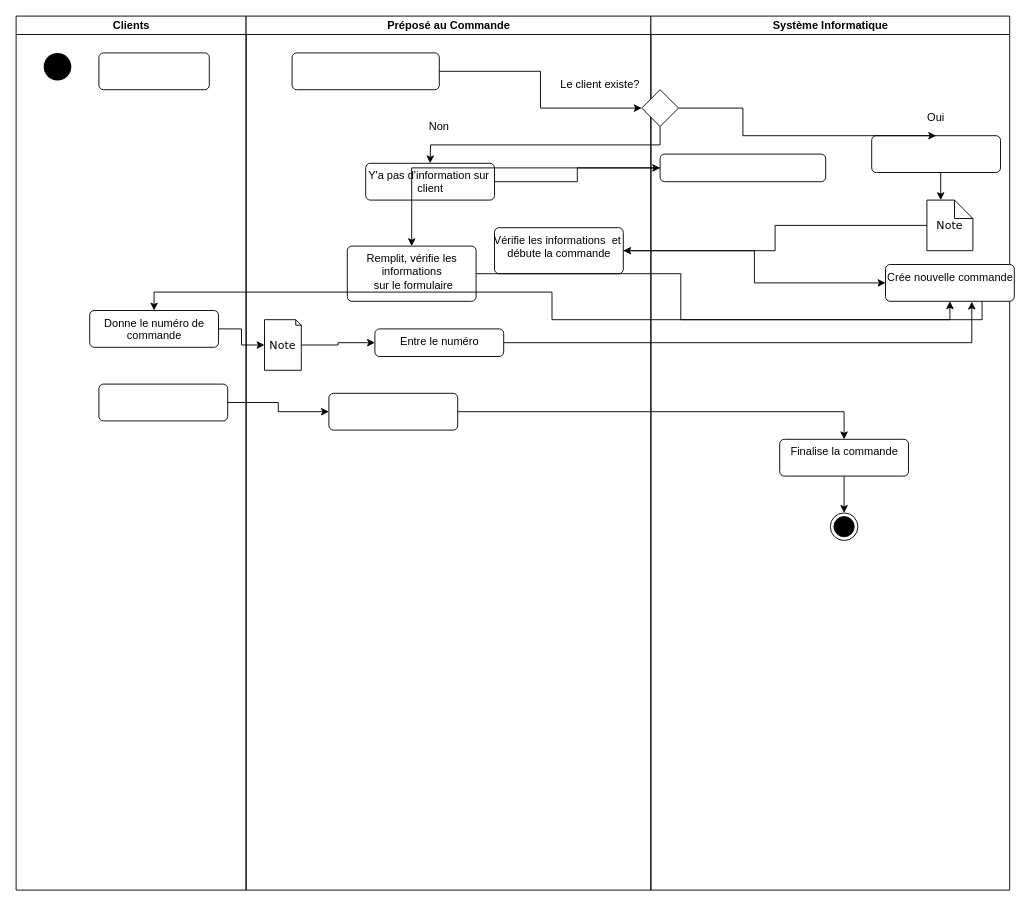
Some shapes in this 1030 by 906 pixel diagram are drawn without their labels. Each missing label, with the centre of its shape:
"Appelle le magasin et discute" belongs at point (153, 71).
"Crée un nouveau client" belongs at point (742, 167).
"Entre les informations" belongs at point (393, 411).
"Envoie les informations du client" belongs at point (935, 153).
"Fournis Information paiement" belongs at point (163, 402).
"Questionne le client et demande au informaticiens" belongs at point (365, 71).
